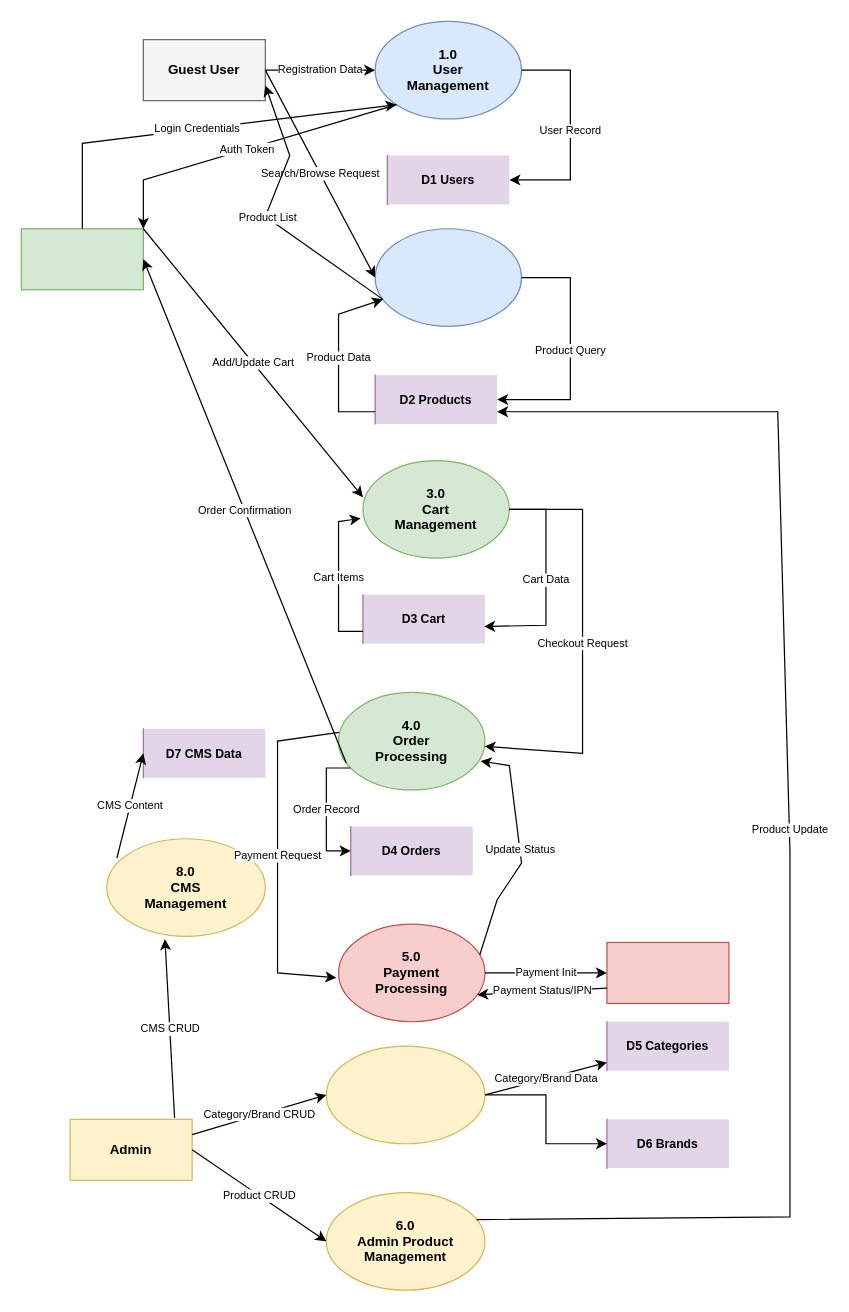
The diagram is 849 pixels wide and 1312 high, and some of its shapes have lost their labels. The shapes that lost their labels are listed below. From the top down, each one's centre as x and y in pixels, then its label:
point 81,259: Registered User
point 448,277: 2.0 Product Catalog
point 667,972: SSLCommerz
point 405,1094: 7.0 Category/Brand Management
